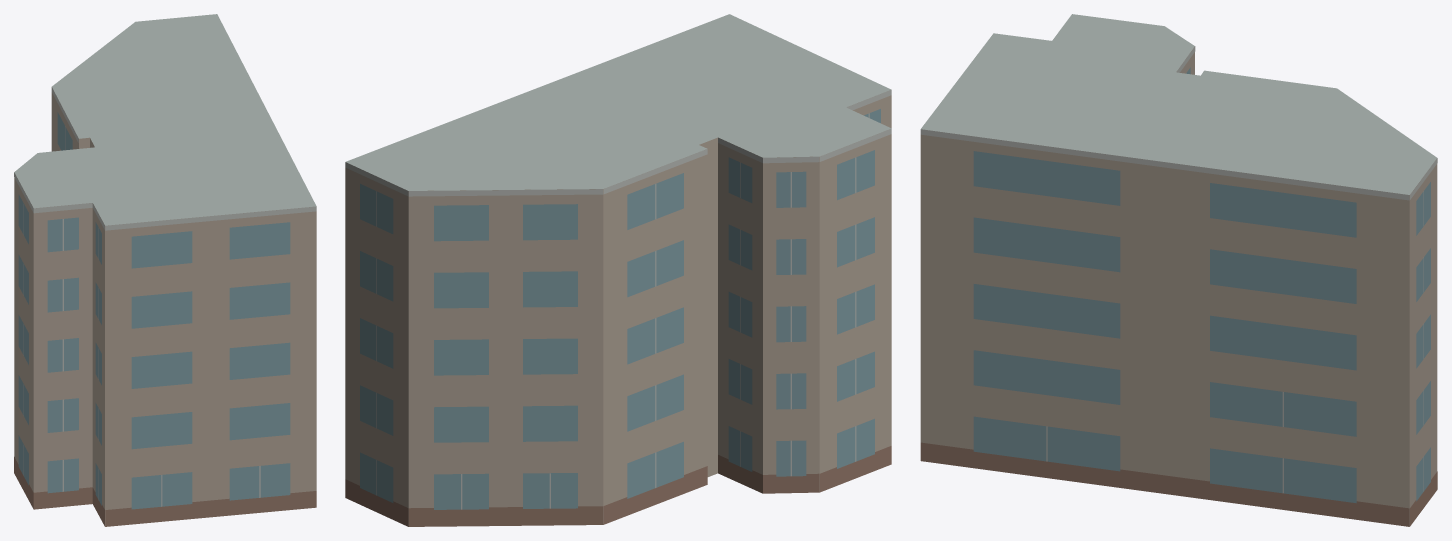
File: survey-upis-32869536.glb
The picture shows the model from 3 angles, left to right: view 1: azimuth 30°, elevation 25°; view 2: azimuth 150°, elevation 25°; view 3: azimuth 270°, elevation 25°; orthographic projection. The views are drawn at different scales.
Visible parts, largest first — view 1: survey-upis-32869536.tmp; view 2: survey-upis-32869536.tmp; view 3: survey-upis-32869536.tmp.
Boxes of the visible parts, x1=… form: survey-upis-32869536.tmp: x1=14, y1=14, x2=316, y2=526; survey-upis-32869536.tmp: x1=345, y1=14, x2=891, y2=526; survey-upis-32869536.tmp: x1=920, y1=14, x2=1437, y2=526.
Bounding box in the file's own units: 17.33 × 14.8 × 20.9.
